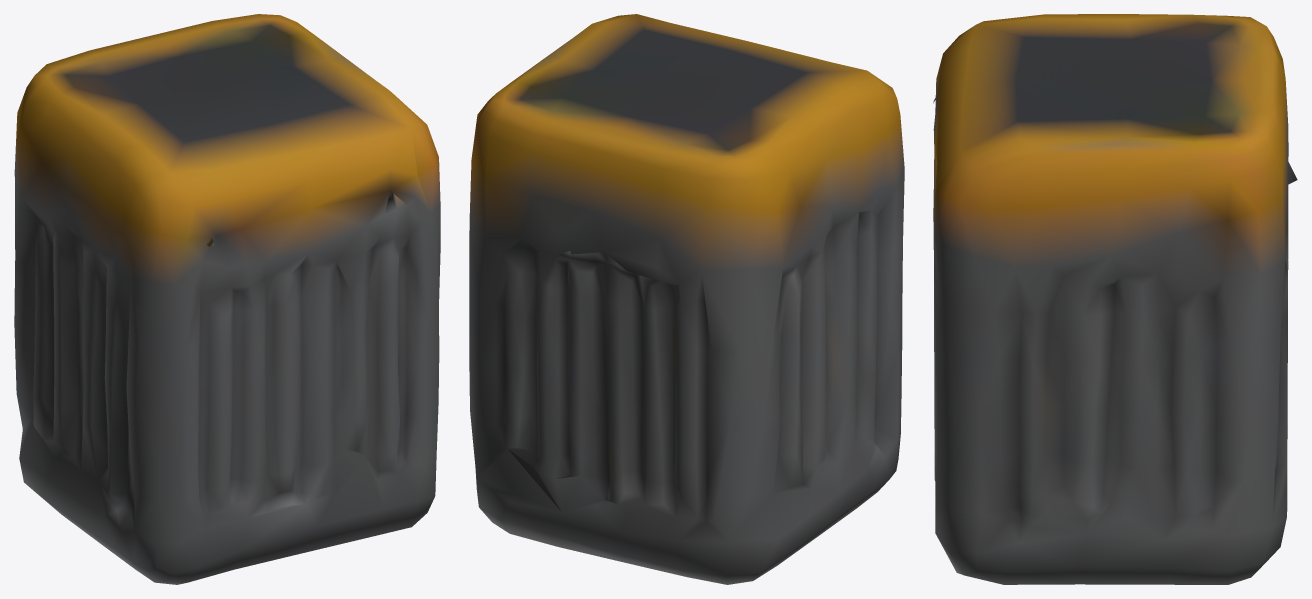
File: 6335647-trash-bin-ribbed.glb
3 renders of one model, left to right at view 1: azimuth 30°, elevation 25°; view 2: azimuth 150°, elevation 25°; view 3: azimuth 270°, elevation 25°, orthographic. The views are drawn at different scales.
Visible parts, largest first — view 1: Retopo_neural_node_8ae5af5c-cea2-43fa-b186-a61998c24a90; view 2: Retopo_neural_node_8ae5af5c-cea2-43fa-b186-a61998c24a90; view 3: Retopo_neural_node_8ae5af5c-cea2-43fa-b186-a61998c24a90.
Boxes of the visible parts, bbox=[...] form: Retopo_neural_node_8ae5af5c-cea2-43fa-b186-a61998c24a90: bbox=[14, 14, 440, 584]; Retopo_neural_node_8ae5af5c-cea2-43fa-b186-a61998c24a90: bbox=[469, 14, 904, 584]; Retopo_neural_node_8ae5af5c-cea2-43fa-b186-a61998c24a90: bbox=[933, 14, 1297, 584].
Bounding box in the file's own units: 0.6683 × 0.9489 × 0.658.
